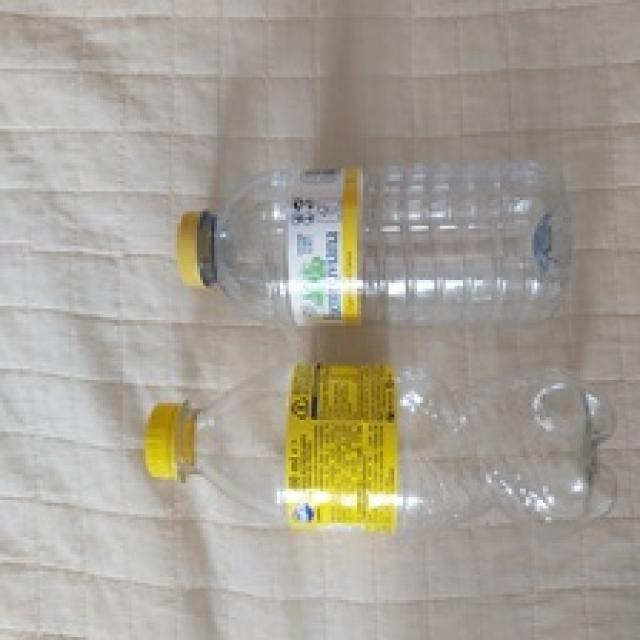good: (137, 353, 616, 548), (165, 158, 579, 338)
